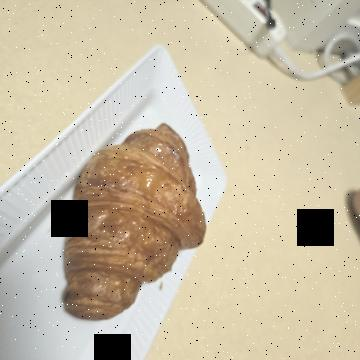croissant: (117, 150, 340, 316)
